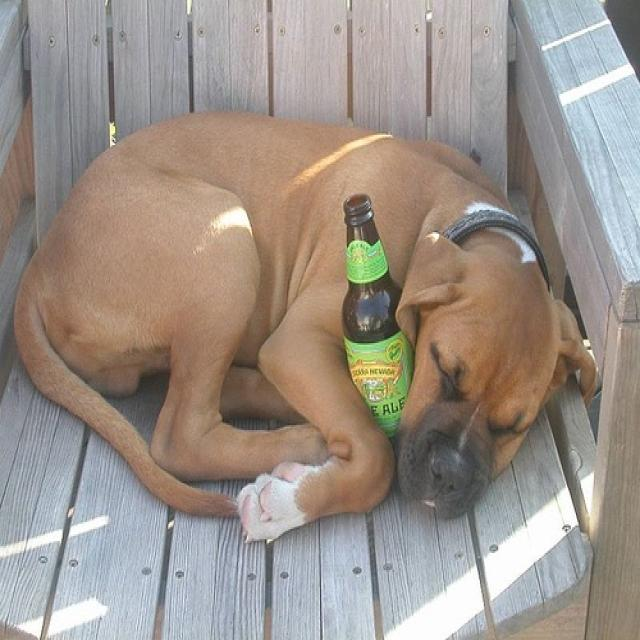bottle: (340, 193, 418, 442)
chair: (0, 0, 638, 638)
dog: (13, 109, 595, 543)
